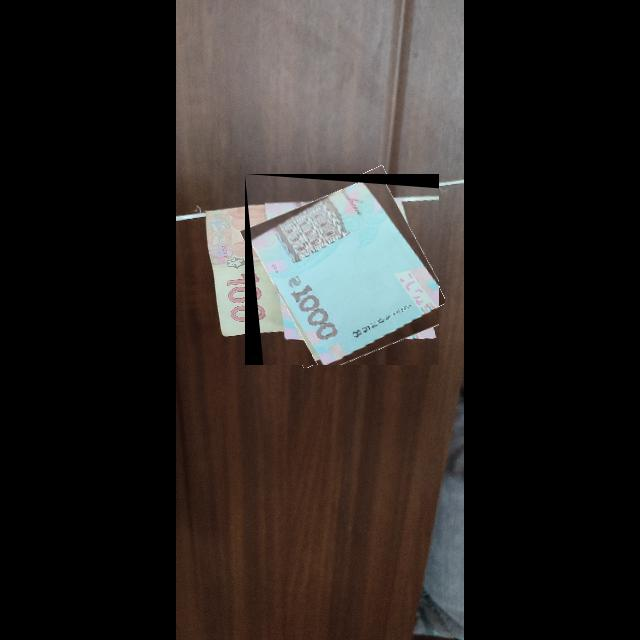1000uah: (251, 181, 440, 366)
